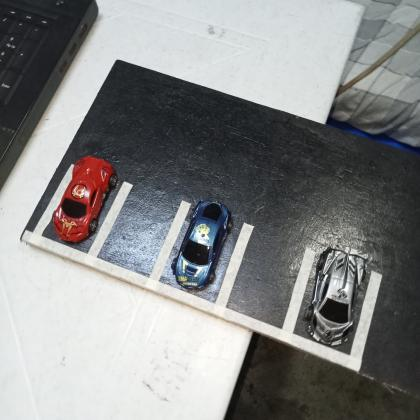Car: (304, 246, 371, 346), (52, 154, 118, 243), (171, 199, 232, 290)
